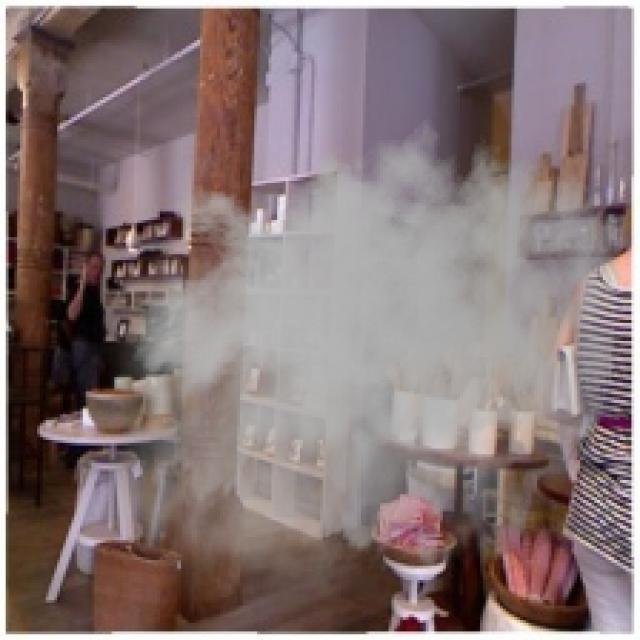smoke: (83, 103, 626, 634)
